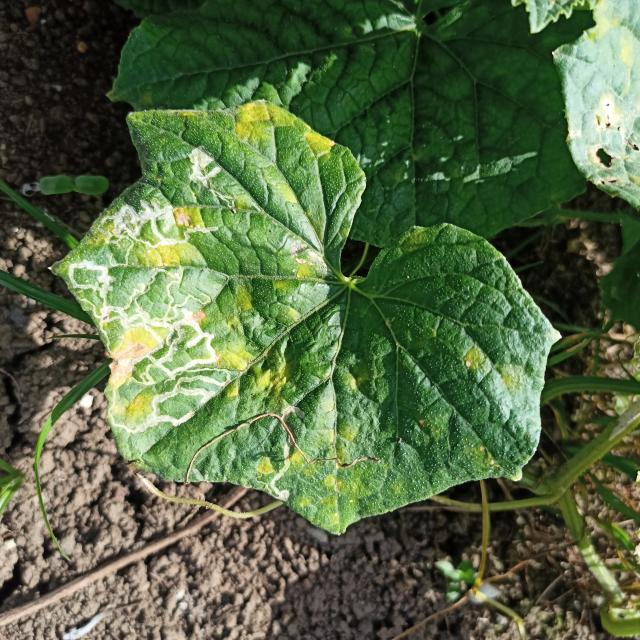disease_cucumber: (61, 212, 322, 433), (241, 384, 370, 528), (195, 100, 337, 211), (459, 344, 531, 394)
